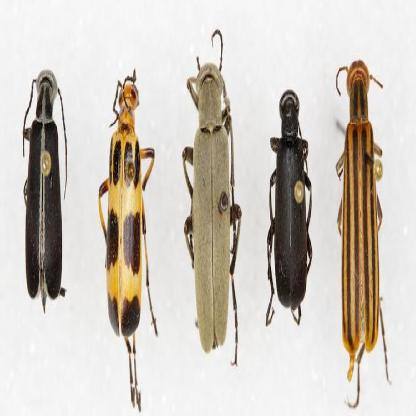beetle: (334, 52, 394, 408), (98, 60, 158, 411), (180, 29, 242, 366), (18, 64, 78, 317), (261, 81, 314, 341)
